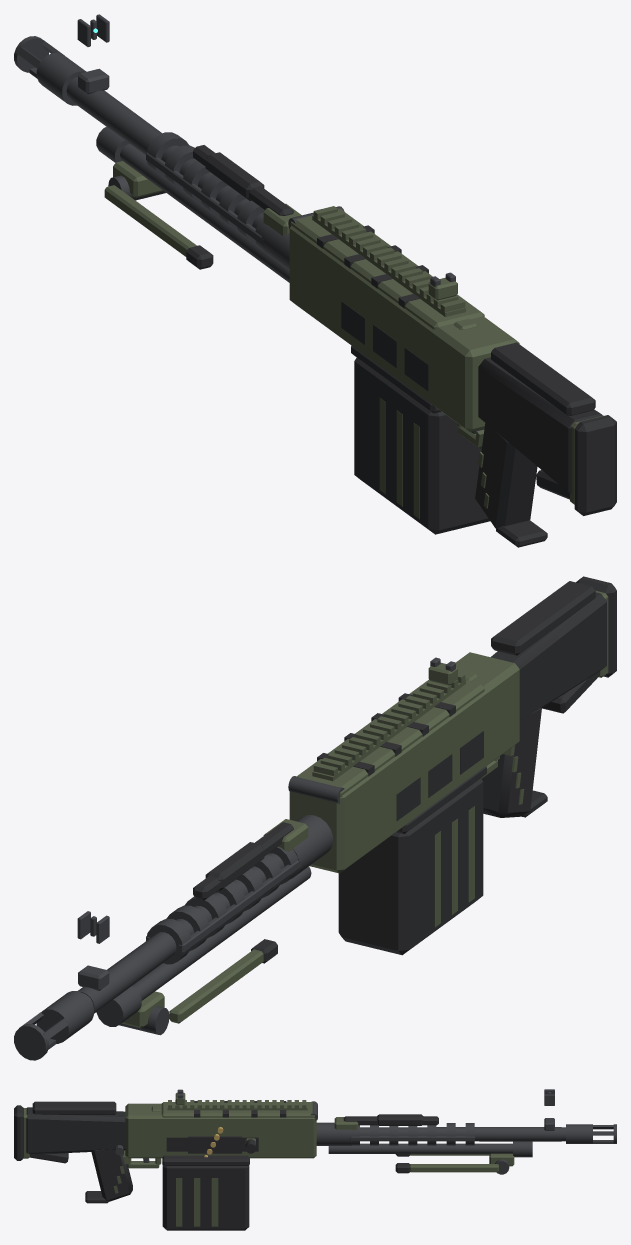
The model's file is lmg.glb.
3 renders of one model, top to bottom at view 1: azimuth 30°, elevation 25°; view 2: azimuth 150°, elevation 25°; view 3: azimuth 270°, elevation 25°, orthographic. The views are drawn at different scales.
Visible parts, largest first — view 1: LMG_Polymer, LMG_OD, LMG_Steel; view 2: LMG_Polymer, LMG_OD, LMG_Steel; view 3: LMG_Polymer, LMG_OD, LMG_Steel.
Part boxes in pixels (box(x1,y1,x2,y2)): LMG_Polymer: box(186, 145, 616, 547); LMG_OD: box(104, 161, 602, 519); LMG_Steel: box(14, 14, 480, 433); LMG_Polymer: box(193, 576, 616, 963); LMG_OD: box(121, 591, 608, 1028); LMG_Steel: box(14, 657, 455, 1060); LMG_Polymer: box(14, 1101, 438, 1230); LMG_OD: box(23, 1092, 514, 1226); LMG_Steel: box(115, 1089, 616, 1174).
Bounding box in the file's own units: 0.0995 × 0.2382 × 1.01.
